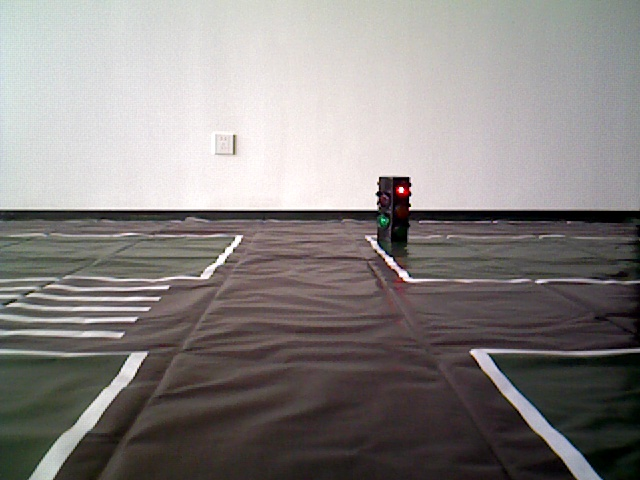red: (376, 177, 409, 246)
